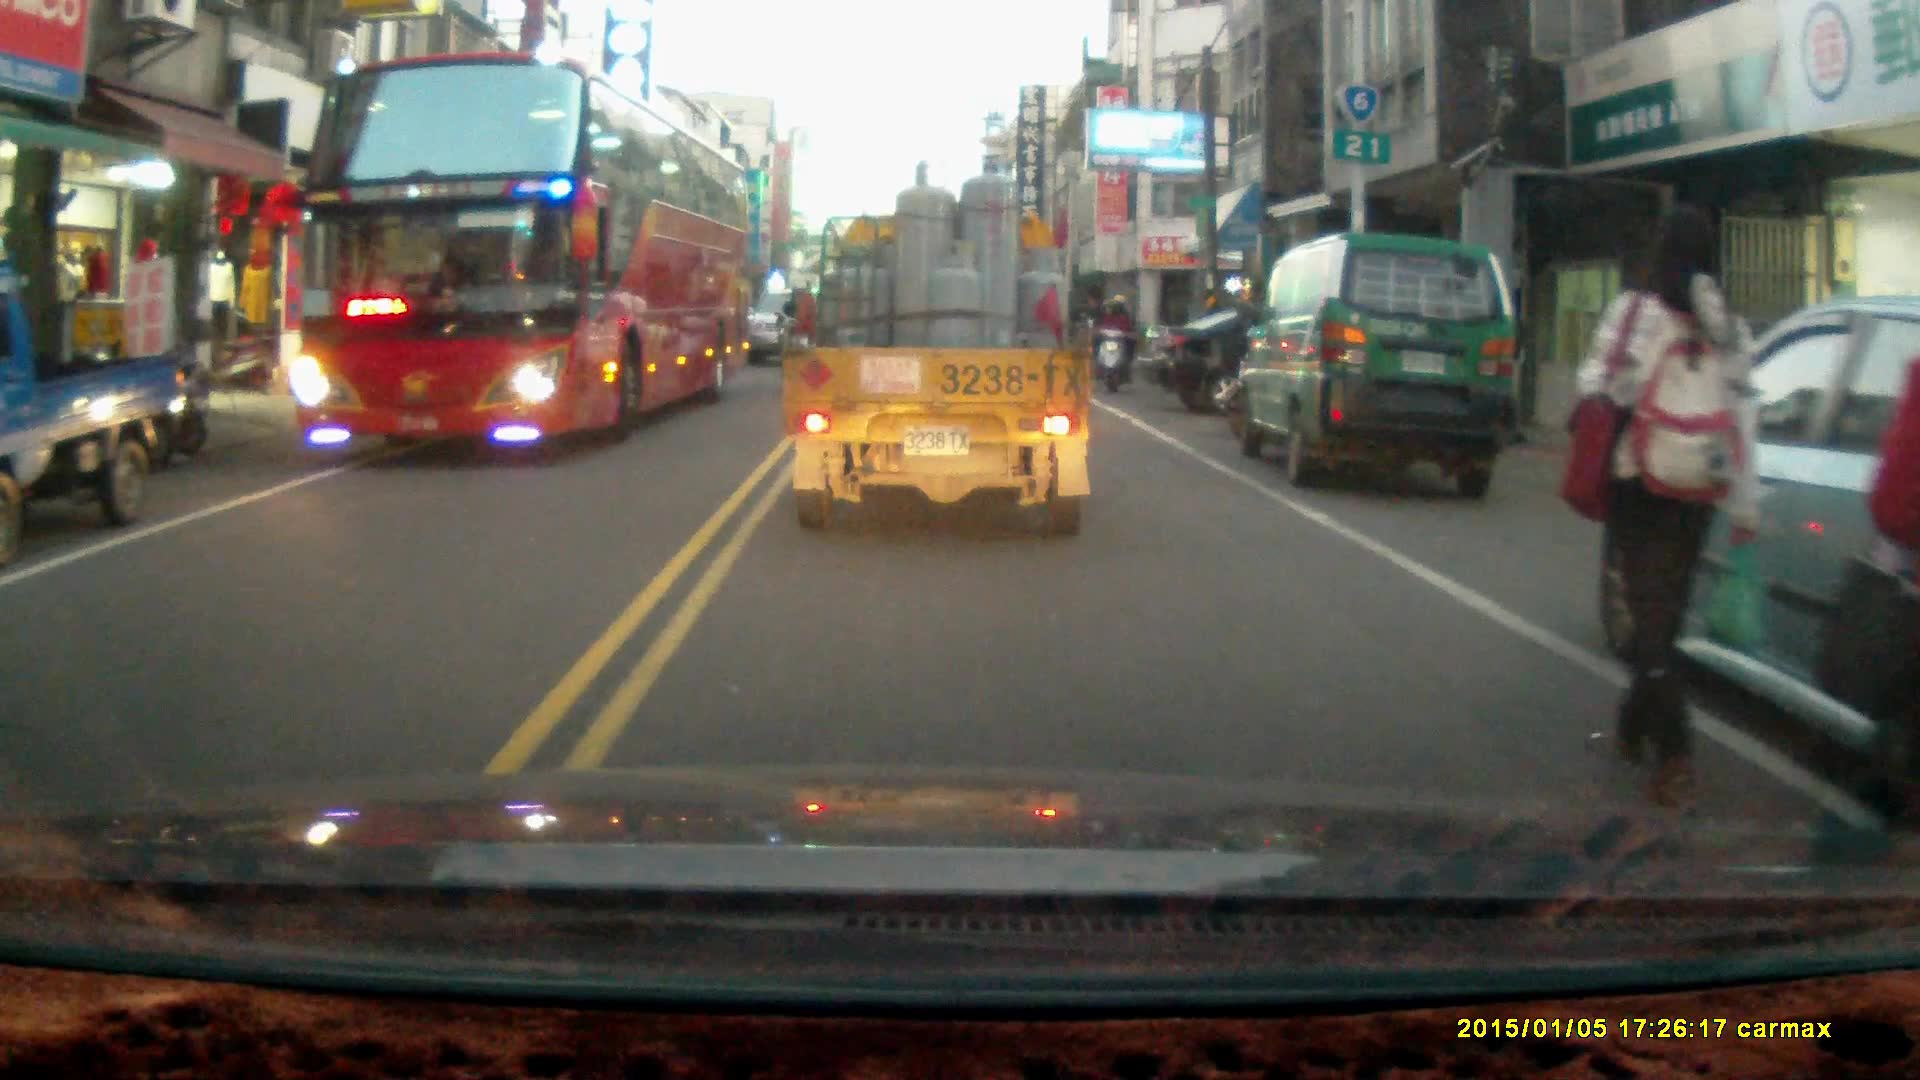pedestrian: (1569, 194, 1762, 805)
rider: (1089, 289, 1136, 389)
vehicle: (286, 55, 760, 458), (786, 154, 1096, 541), (1236, 230, 1518, 492), (1, 299, 189, 551), (1134, 303, 1438, 411)
